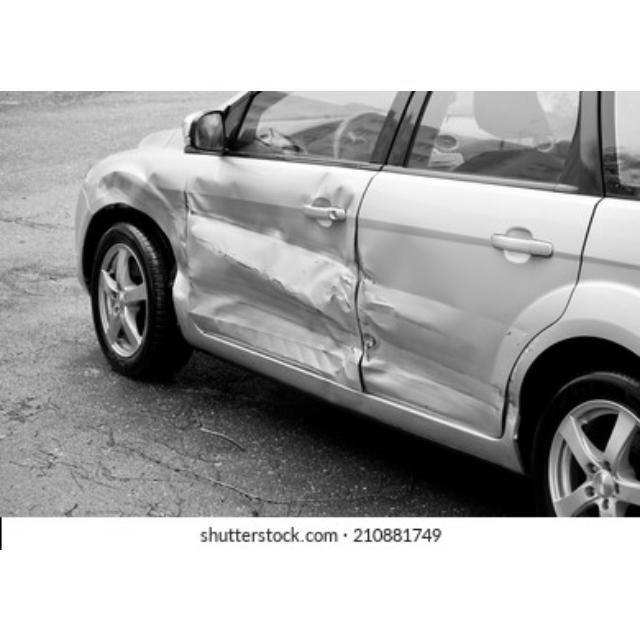doorouter-dent: (174, 163, 363, 386), (360, 262, 543, 449)
fender-dent: (93, 150, 184, 240)
